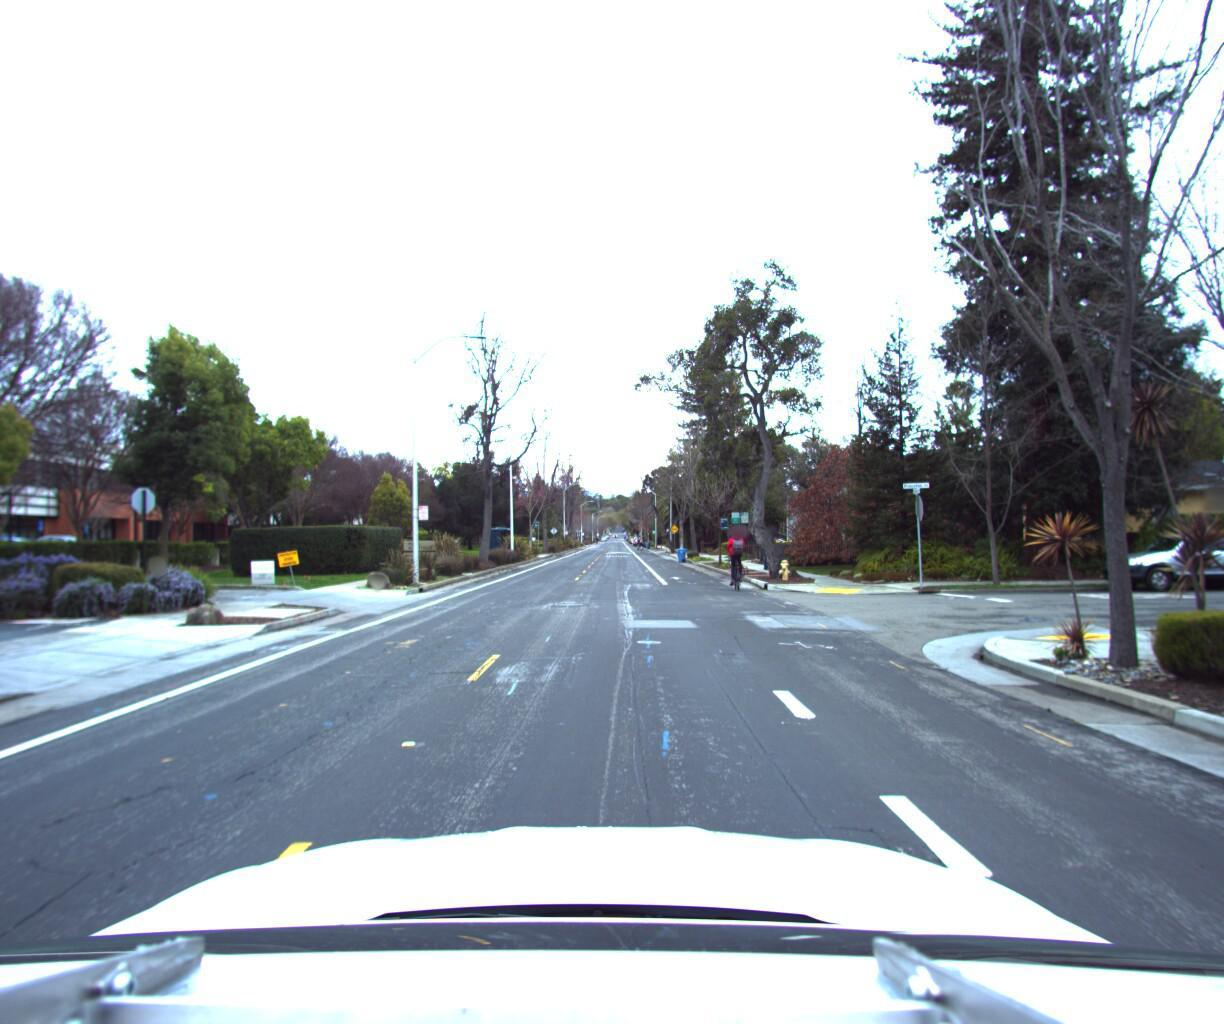bicycle: (715, 526, 756, 599)
car: (1080, 529, 1224, 600)
